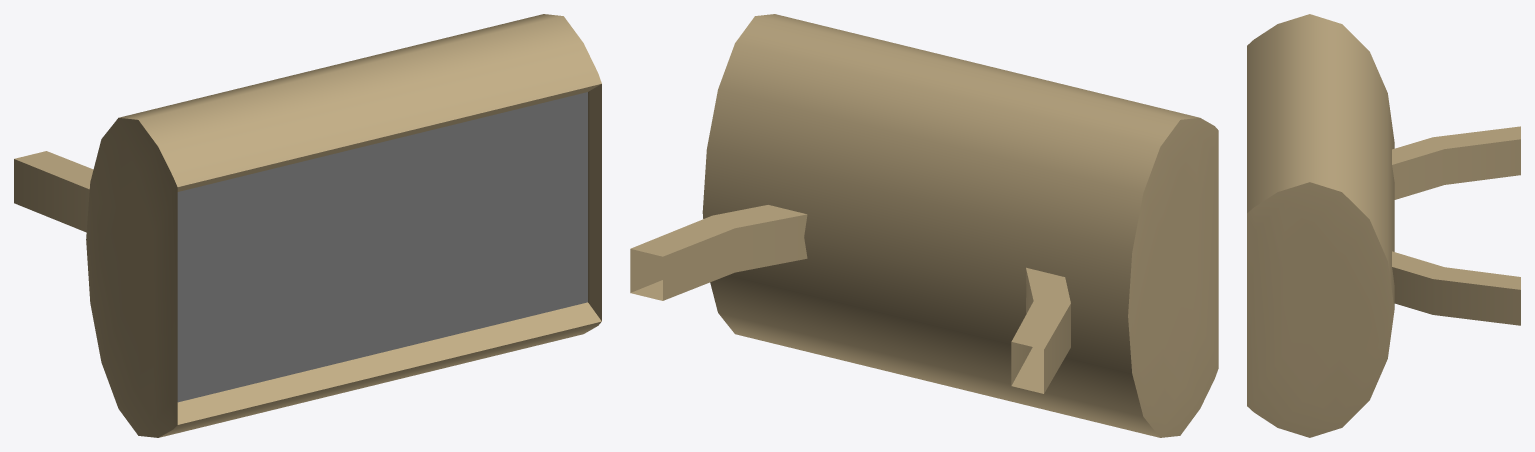
The model's file is maluch.FBX.
3 renders of one model, left to right at view 1: azimuth 30°, elevation 25°; view 2: azimuth 150°, elevation 25°; view 3: azimuth 270°, elevation 25°, orthographic. The views are drawn at different scales.
Visible parts, largest first — view 1: glass, maluch; view 2: maluch; view 3: maluch.
Part boxes in pixels (x1=…): glass: x1=177, y1=92, x2=587, y2=402; maluch: x1=14, y1=14, x2=601, y2=437; maluch: x1=630, y1=14, x2=1218, y2=437; maluch: x1=1247, y1=14, x2=1520, y2=437.
Size of the model in its own units: 1.31 by 0.9268 by 0.8993.
